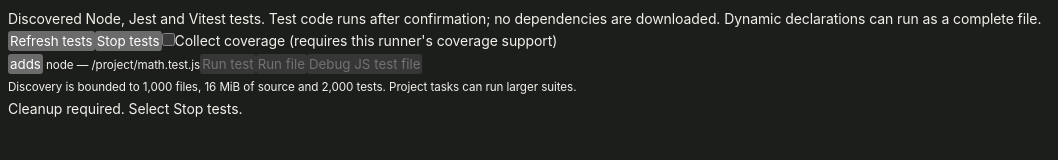
Scenario: ended tests keep Stop reachable while cleanup is pending and retain refusal until a confirmed retry
The width and height of the screenshot is (1058, 160).
Expected: the button "Run test" is disabled, left=200, top=54, right=256, bottom=74
Expected: the message shows "Cleanup required", left=8, top=100, right=242, bottom=117
Click the button "Stop tests".
click(128, 41)  # box left=95, top=31, right=162, bottom=51
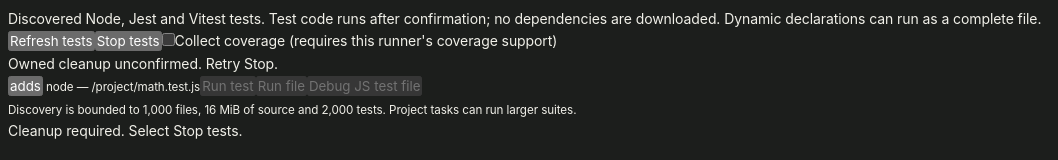
Result: the message "Owned cleanup unconfirmed. Retry Stop." is shown at left=8, top=55, right=278, bottom=72
Click the button "Stop tests".
click(128, 41)  # box left=95, top=31, right=162, bottom=51
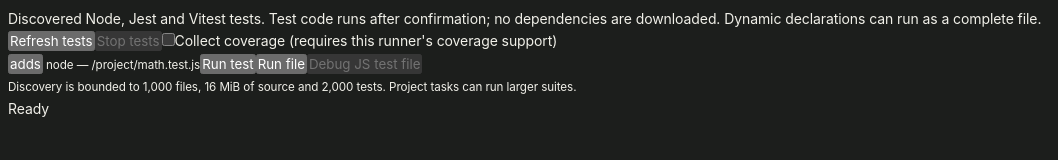
Result: the button "Stop tests" is disabled at left=95, top=31, right=162, bottom=51
Result: the button "Run test" is enabled at left=200, top=54, right=256, bottom=74
Result: the message "Owned cleanup unconfirmed. Retry Stop." is gone
